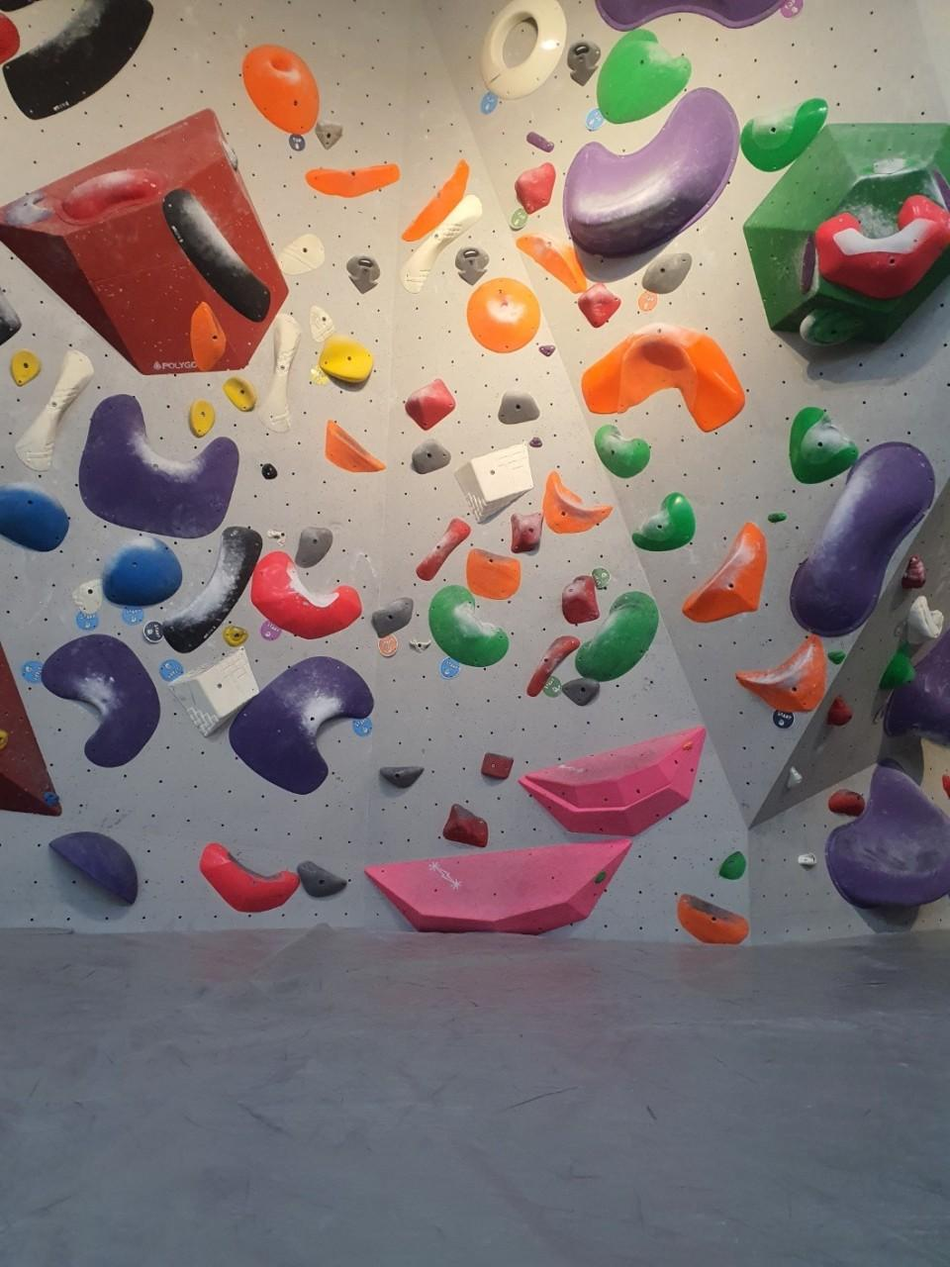hold: (564, 88, 739, 256), (791, 442, 934, 637), (79, 394, 238, 538), (230, 657, 373, 794), (4, 0, 152, 119), (825, 765, 949, 907), (581, 324, 744, 432), (42, 634, 159, 767), (163, 190, 269, 321), (817, 196, 949, 300), (163, 527, 260, 652), (251, 550, 360, 639), (16, 349, 93, 471), (597, 29, 691, 124), (481, 0, 566, 100), (684, 524, 767, 623), (168, 647, 258, 736), (402, 193, 481, 293), (576, 591, 658, 681), (736, 634, 827, 712), (242, 45, 319, 135), (199, 843, 297, 913), (49, 831, 137, 904), (428, 587, 508, 667), (740, 99, 827, 171), (456, 443, 532, 522), (466, 276, 540, 352), (57, 169, 158, 224), (402, 160, 469, 241), (103, 540, 182, 606), (789, 409, 858, 483), (258, 313, 300, 433), (542, 470, 612, 534), (0, 487, 68, 551), (518, 233, 587, 293), (632, 493, 695, 551), (678, 894, 748, 944), (417, 518, 470, 581), (306, 163, 400, 197), (527, 635, 579, 696), (325, 420, 385, 472), (466, 548, 521, 600), (595, 426, 650, 478), (404, 379, 455, 431), (318, 335, 371, 385), (190, 302, 226, 370), (642, 251, 692, 293), (515, 162, 555, 214), (443, 804, 488, 847), (281, 233, 325, 276), (561, 576, 599, 625), (578, 284, 620, 328), (906, 595, 943, 644), (298, 861, 346, 897), (879, 645, 913, 691), (372, 598, 413, 636), (294, 528, 332, 568), (498, 392, 539, 424), (412, 440, 450, 474), (511, 515, 542, 551), (10, 349, 41, 385), (380, 765, 424, 790), (74, 577, 103, 614), (224, 377, 256, 410), (828, 789, 865, 817), (189, 400, 214, 438), (800, 234, 815, 294), (310, 305, 332, 344), (718, 851, 746, 879), (902, 555, 925, 589), (481, 755, 511, 780), (827, 696, 851, 726), (788, 766, 802, 789), (828, 648, 846, 664), (798, 852, 815, 868), (262, 462, 276, 479), (410, 639, 429, 651), (767, 512, 787, 523), (44, 792, 59, 806), (538, 344, 553, 356), (595, 870, 607, 883), (529, 436, 542, 447)
volume: (0, 110, 287, 374), (743, 124, 949, 343), (365, 839, 630, 933), (520, 730, 705, 837), (0, 645, 60, 816)
